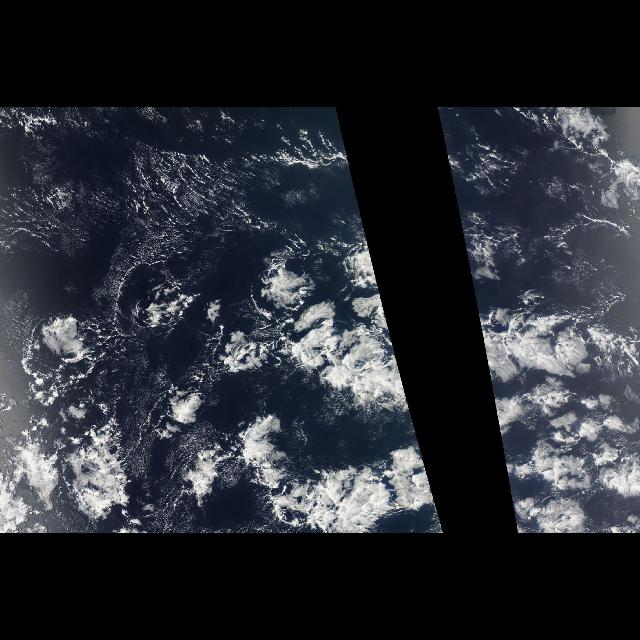Fish: (194, 431, 444, 534), (498, 430, 512, 514)
Flower: (9, 248, 444, 532), (464, 247, 640, 533)
Sugar: (1, 116, 360, 284), (444, 136, 556, 294)
